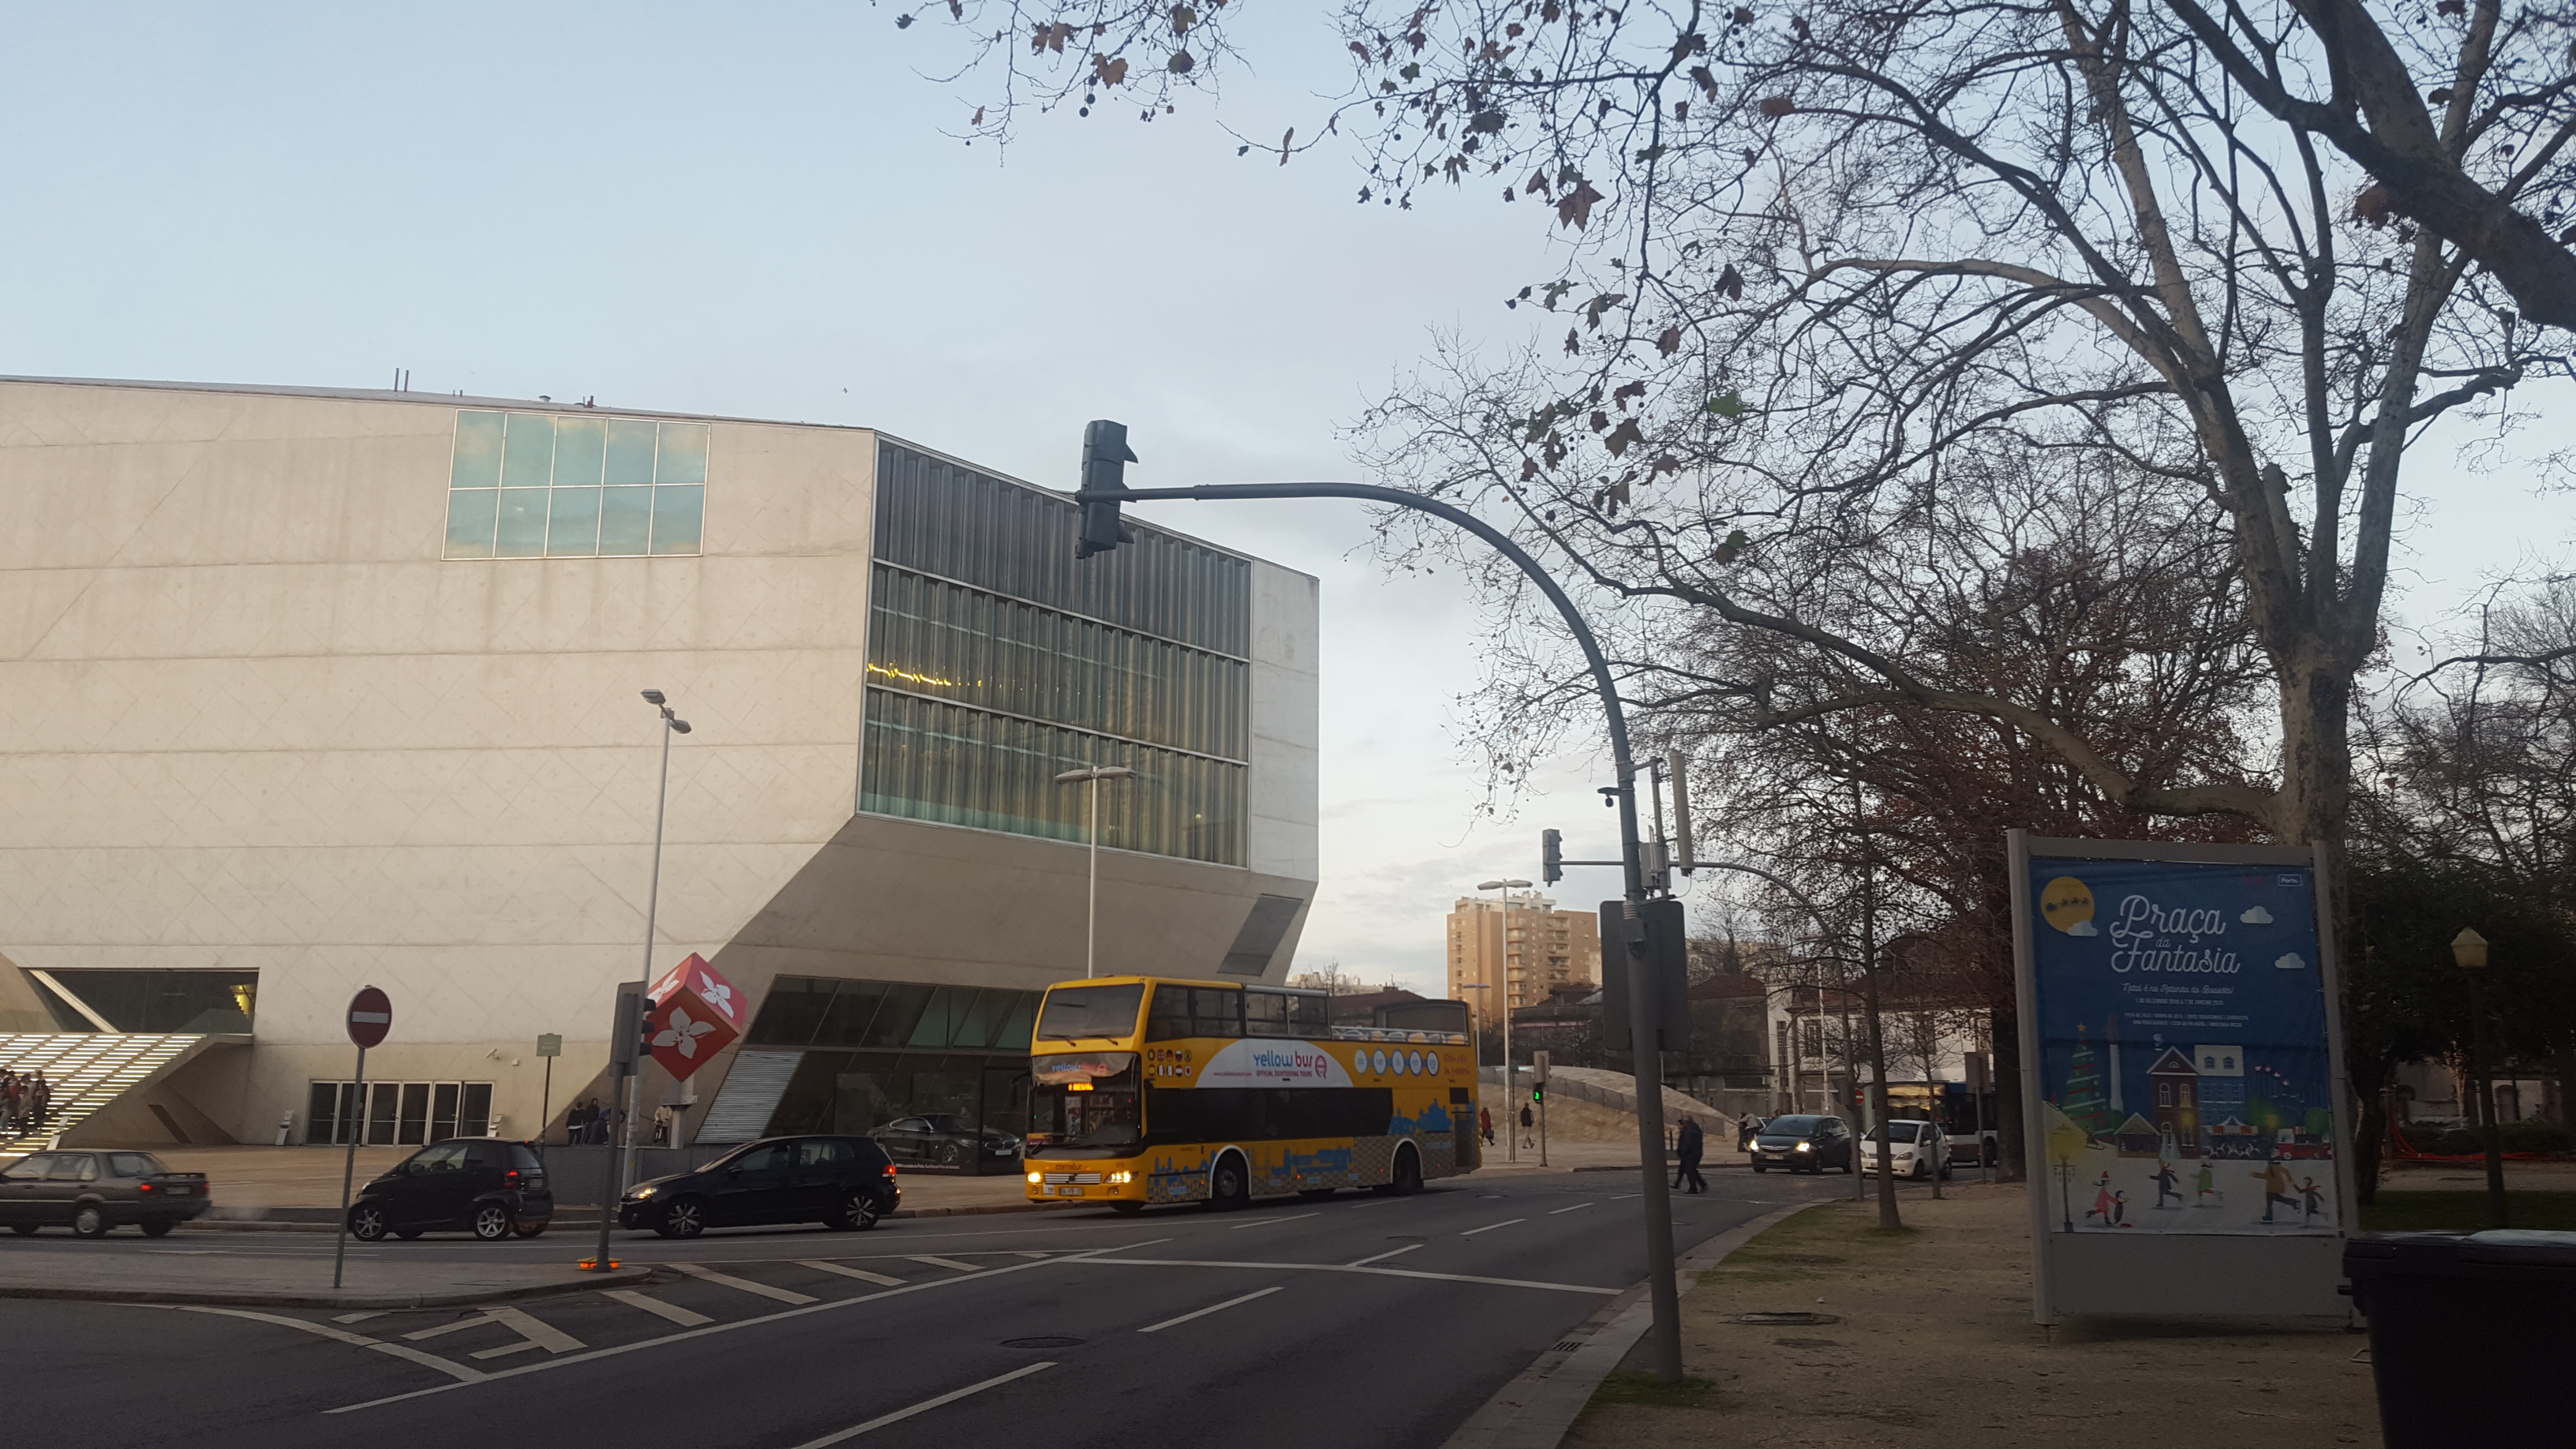musica: (0, 372, 1330, 782)
